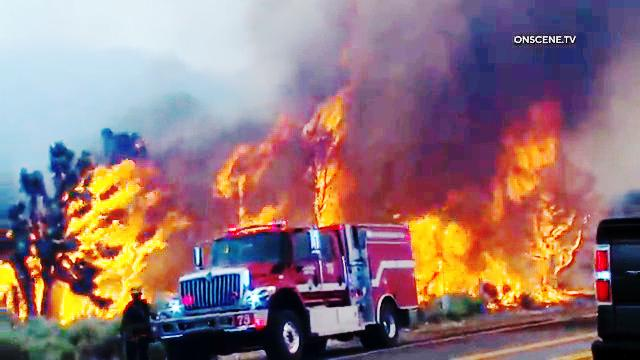fire: (55, 170, 162, 325), (414, 221, 522, 304), (527, 194, 574, 295), (309, 162, 348, 224)
smoke: (331, 12, 501, 73)
